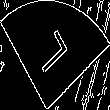L_SW: (34, 27, 76, 83)
